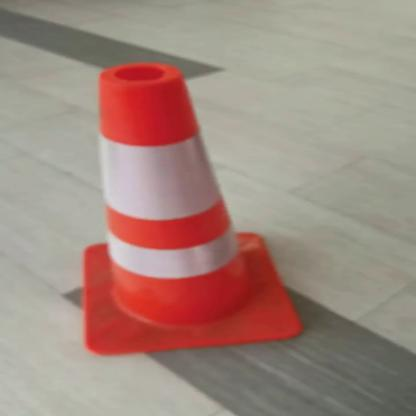cone: (34, 60, 318, 358)
